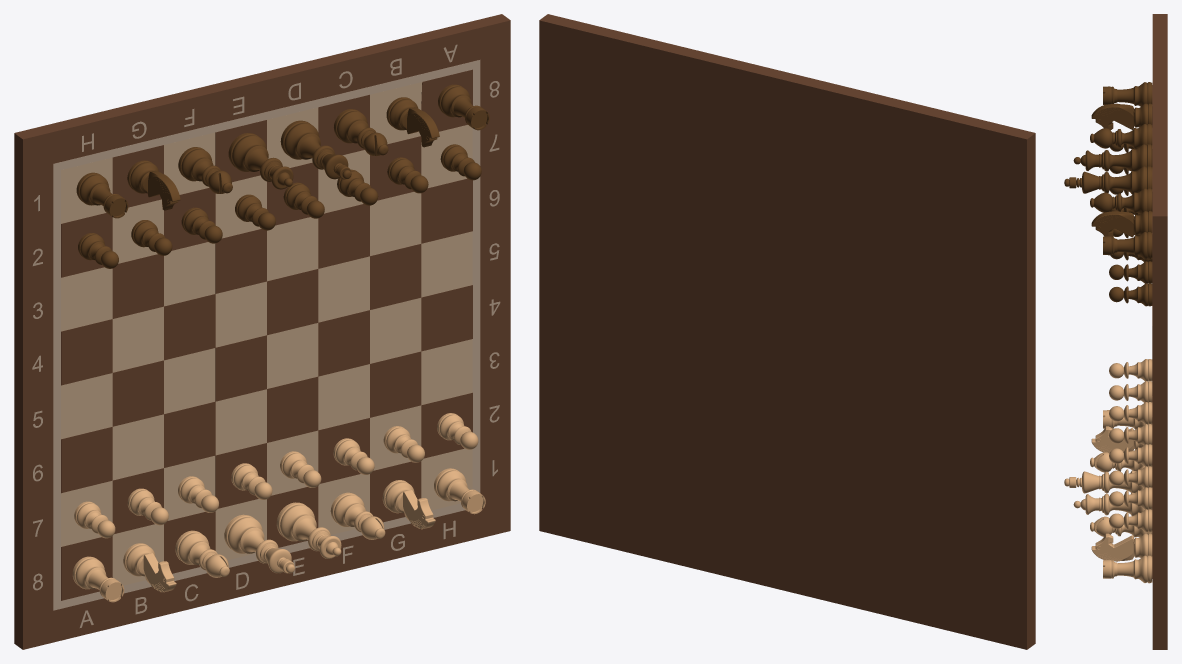
The model's file is Chess .fbx.
3 views of the same model, side by side, from view 1: azimuth 30°, elevation 25°; view 2: azimuth 150°, elevation 25°; view 3: azimuth 270°, elevation 25° (orthographic). The views are drawn at different scales.
Visible parts, largest first — view 1: Body2, Body36, Body1, Body3, Король (1), Король, Ферзь, Ферзь (1), Конь, Слон (1) (1), Конь (1), Слон (+24 smaller); view 2: Body1; view 3: Body1, Король (1), Ферзь (1), Конь (1), Конь (2), Конь (1) (1), Слон (1) (1), Слон (1) (1) (1), Ладья, Ладья (1) (1) (1), Король, Ладья (1) (1) (+17 smaller).
Part boxes in pixels (x1,y1,x2,y2): Body2: [61, 69, 472, 600]; Body36: [61, 82, 472, 585]; Body1: [14, 14, 510, 649]; Body3: [53, 60, 480, 610]; Король (1): [280, 120, 351, 179]; Король: [224, 514, 294, 573]; Ферзь: [276, 502, 341, 558]; Ферзь (1): [228, 133, 293, 189]; Конь: [123, 543, 176, 592]; Слон (1) (1): [334, 109, 388, 156]; Конь (1): [382, 480, 435, 529]; Слон: [175, 530, 229, 577]; Body1: [539, 14, 1035, 649]; Body1: [1152, 14, 1167, 649]; Король (1): [1064, 166, 1152, 194]; Ферзь (1): [1073, 144, 1152, 171]; Конь (1): [1091, 533, 1152, 561]; Конь (2): [1091, 211, 1152, 237]; Конь (1) (1): [1091, 103, 1152, 130]; Слон (1) (1): [1090, 188, 1152, 214]; Слон (1) (1) (1): [1090, 124, 1152, 148]; Ладья: [1103, 555, 1152, 583]; Ладья (1) (1) (1): [1103, 232, 1152, 259]; Король: [1064, 466, 1151, 493]; Ладья (1) (1): [1103, 82, 1152, 106].
Size of the model in its own units: 320 by 320 by 68.98.
